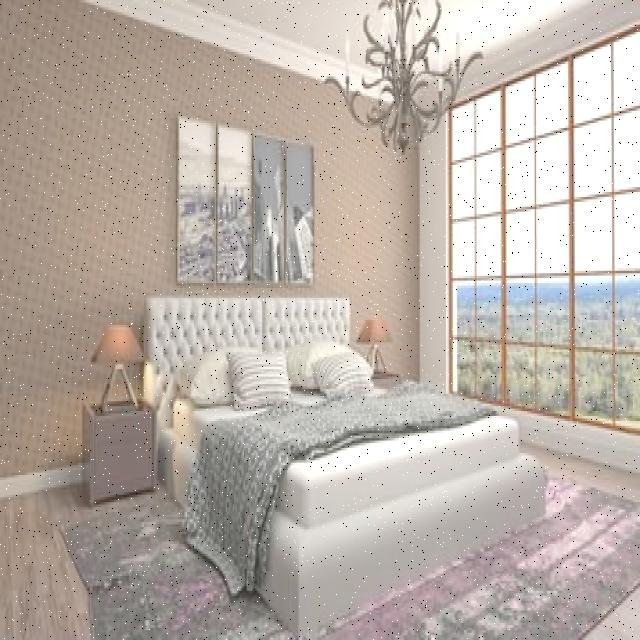bed: (152, 293, 542, 576)
